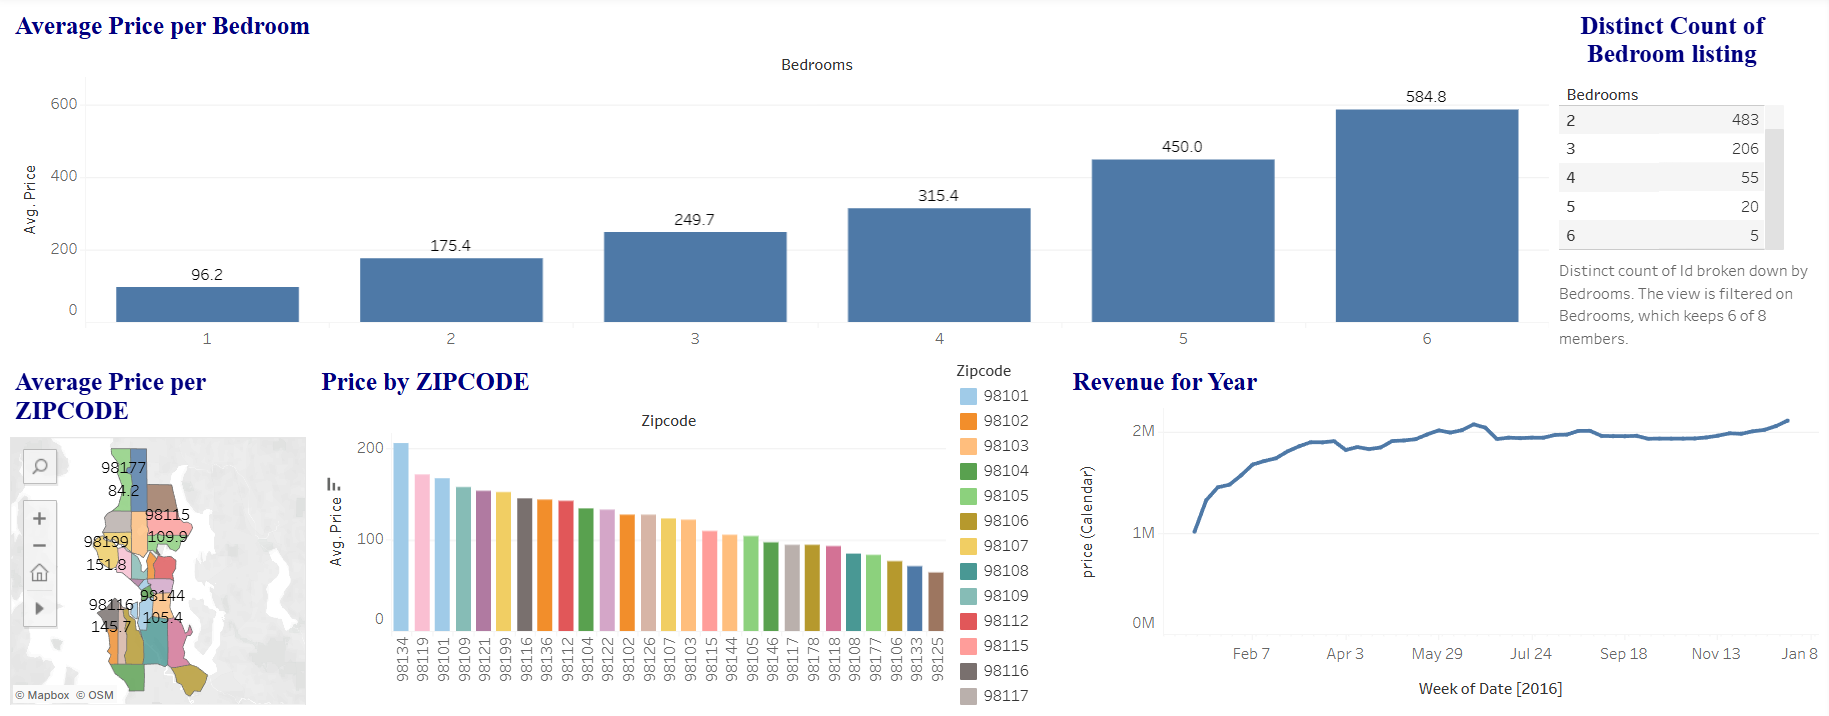

The page's visual inventory and layout, read from the dashboard file:
{"tool":"tableau","page":{"name":"Dashboard 1","canvas":[1000,1000],"units":"permille","ordinal":0},"visuals":[{"type":"worksheet","title":"Sheet 4","mark":"Automatic","rows":["price"],"cols":["bedrooms"],"box":[4.8,10,843.1,490]},{"type":"worksheet","title":"Sheet 5","mark":"Automatic","rows":["bedrooms"],"box":[847.9,10,147.2,490]},{"type":"worksheet","title":"Sheet 2","mark":"Multipolygon","box":[4.8,500,166.5,490]},{"type":"worksheet","title":"Sheet 1","mark":"Automatic","rows":["price"],"cols":["zipcode"],"box":[171.3,500,348.9,490]},{"type":"legend","title":"Sheet 1","param":"[federated.14kscsp1eud7qr1f5jlk80cvg03n].[none:zipcode:ok]","box":[520.2,500,60.4,490]},{"type":"worksheet","title":"Sheet 3","mark":"Automatic","rows":["price (Calendar)"],"cols":["date"],"box":[580.6,500,414.6,490]}]}

Visuals, with their boxes on the dashboard's canvas, which has no fixed pixel size, in thousandths of its width and height (x1, y1, x2, y2). These are canvas units, not pixel positions in the 1829x716 screenshot, which may show the page scaled, cropped or inside an application window:
"Sheet 4" worksheet: l=5, t=10, r=848, b=500
"Sheet 5" worksheet: l=848, t=10, r=995, b=500
"Sheet 2" worksheet (Multipolygon marks): l=5, t=500, r=171, b=990
"Sheet 1" worksheet: l=171, t=500, r=520, b=990
"Sheet 1" legend: l=520, t=500, r=581, b=990
"Sheet 3" worksheet: l=581, t=500, r=995, b=990
